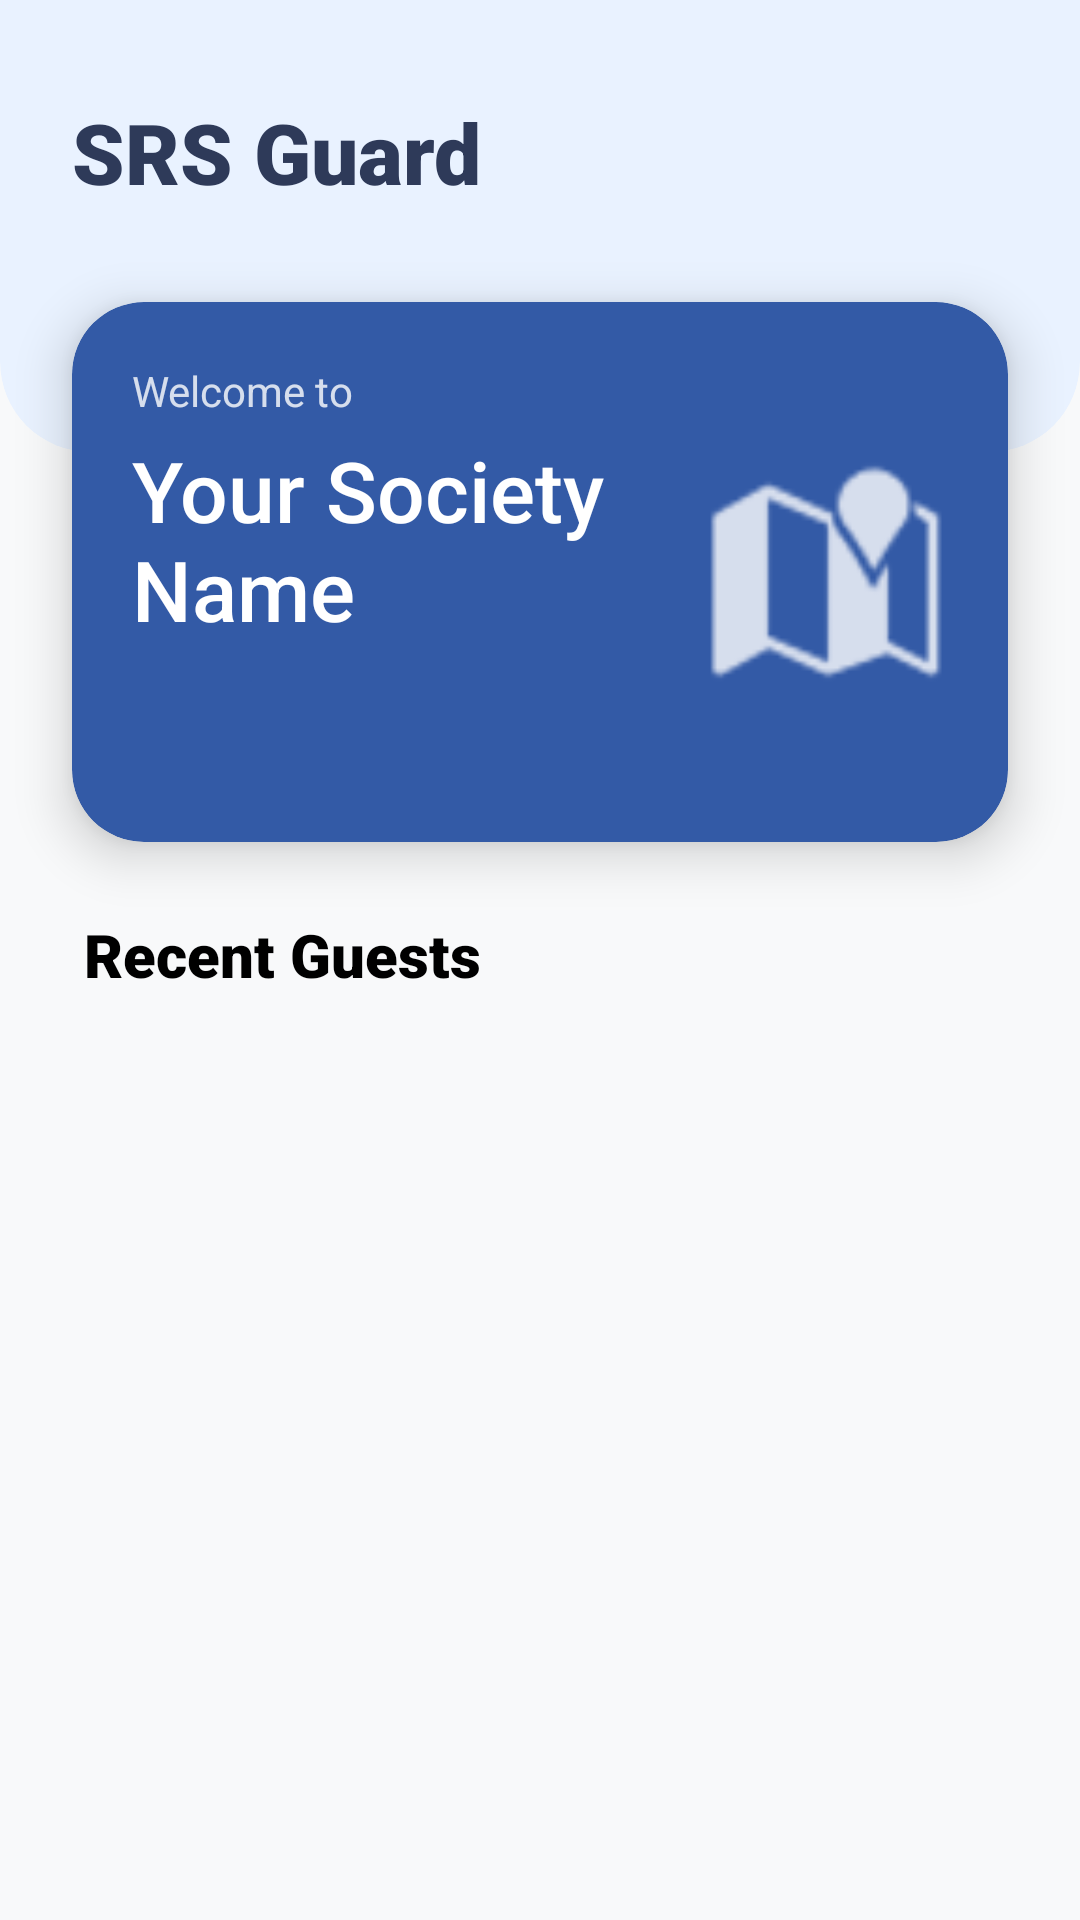

Named icons in this screenshot (1080px x 1920px) and their bounding boxes, (x1, y1, x2, y2):
map: (711, 466, 941, 678)
